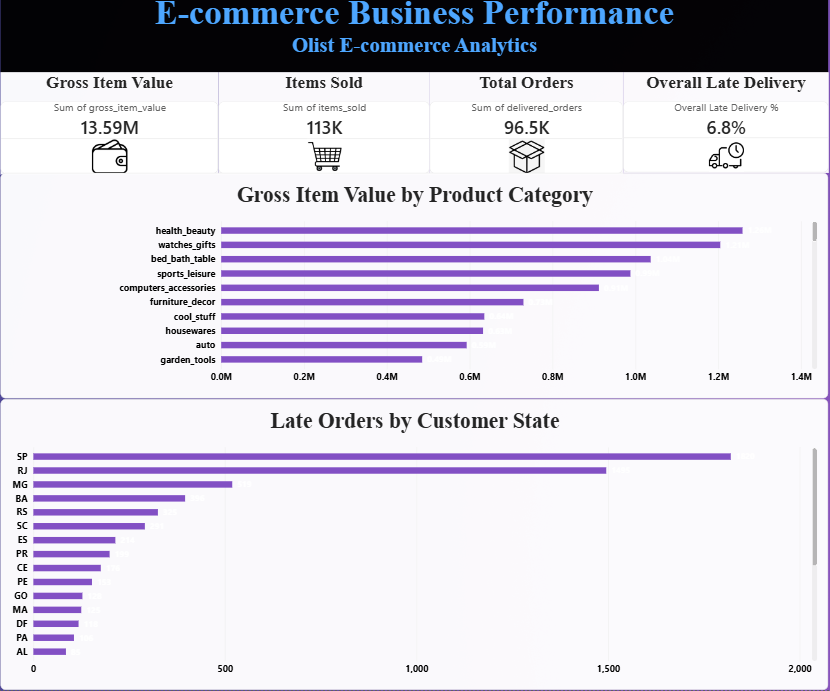

The dashboard page shown, as its layout file describes it:
{"tool":"powerbi","page":{"name":"E-commerce Business Performance","canvas":[1920,1080],"ordinal":0},"visuals":[{"type":"cardVisual","title":"Gross Item Value","fields":{"Data":["Sum(vw_product_performance.gross_item_value)"]},"box":[230.1,122.4,337.7,158.3],"z":0},{"type":"cardVisual","title":"Total Orders","fields":{"Data":["Sum(vw_order_summary.delivered_orders)"]},"box":[895,122.4,299.7,158.3],"z":1000},{"type":"cardVisual","title":"Items Sold","fields":{"Data":["Sum(vw_product_performance.items_sold)"]},"box":[567.8,122.4,327.2,158.3],"z":2000},{"type":"clusteredBarChart","title":"Gross Item Value by Product Category","fields":{"Category":["vw_product_performance.product_category"],"Y":["Sum(vw_product_performance.gross_item_value)"]},"box":[230.7,278.5,1282.3,349.2],"z":3000},{"type":"clusteredBarChart","title":"Late Orders by Customer State","fields":{"Category":["vw_state_delivery_performance.customer_state"],"Y":["Sum(vw_state_delivery_performance.late_orders)"]},"box":[230.7,629.7,1282.3,451],"z":4000},{"type":"cardVisual","title":"Overall Late Delivery","fields":{"Data":["vw_state_delivery_performance.Overall Late Delivery %"]},"box":[1194.7,122.4,318.7,156.2],"z":5000},{"type":"textbox","box":[230.7,0,1282.3,122.6],"z":6000}]}

Visuals, with their boxes on the page's 1920x1080 design canvas (x1, y1, x2, y2). These are canvas units, not pixel positions in the 830x691 screenshot, which may show the page scaled, cropped or inside an application window:
"Gross Item Value" cardVisual: <bbox>230, 122, 568, 281</bbox>
"Total Orders" cardVisual: <bbox>895, 122, 1195, 281</bbox>
"Items Sold" cardVisual: <bbox>568, 122, 895, 281</bbox>
"Gross Item Value by Product Category" clusteredBarChart: <bbox>231, 278, 1513, 628</bbox>
"Late Orders by Customer State" clusteredBarChart: <bbox>231, 630, 1513, 1081</bbox>
"Overall Late Delivery" cardVisual: <bbox>1195, 122, 1513, 279</bbox>
textbox: <bbox>231, 0, 1513, 123</bbox>
